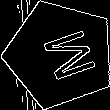M_W: (27, 24, 93, 84)
